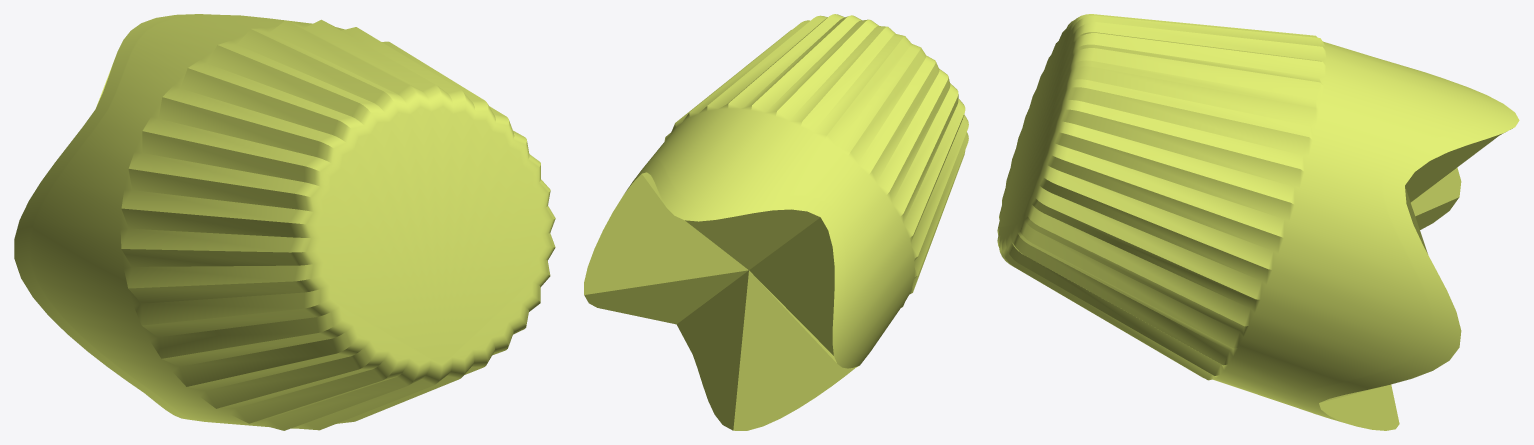
Rendered from Kue Mangkok Kuning.fbx.
The picture shows the model from 3 angles, left to right: view 1: azimuth 30°, elevation 25°; view 2: azimuth 150°, elevation 25°; view 3: azimuth 270°, elevation 25°; orthographic projection. The views are drawn at different scales.
Visible parts, largest first — view 1: Kue Mangkok Kuning; view 2: Kue Mangkok Kuning; view 3: Kue Mangkok Kuning.
Boxes of the visible parts, left/top/right/bottom form: Kue Mangkok Kuning: left=14, top=14, right=555, bottom=430; Kue Mangkok Kuning: left=584, top=14, right=968, bottom=430; Kue Mangkok Kuning: left=997, top=14, right=1519, bottom=430.
Bounding box in the file's own units: 475 × 576 × 688.
